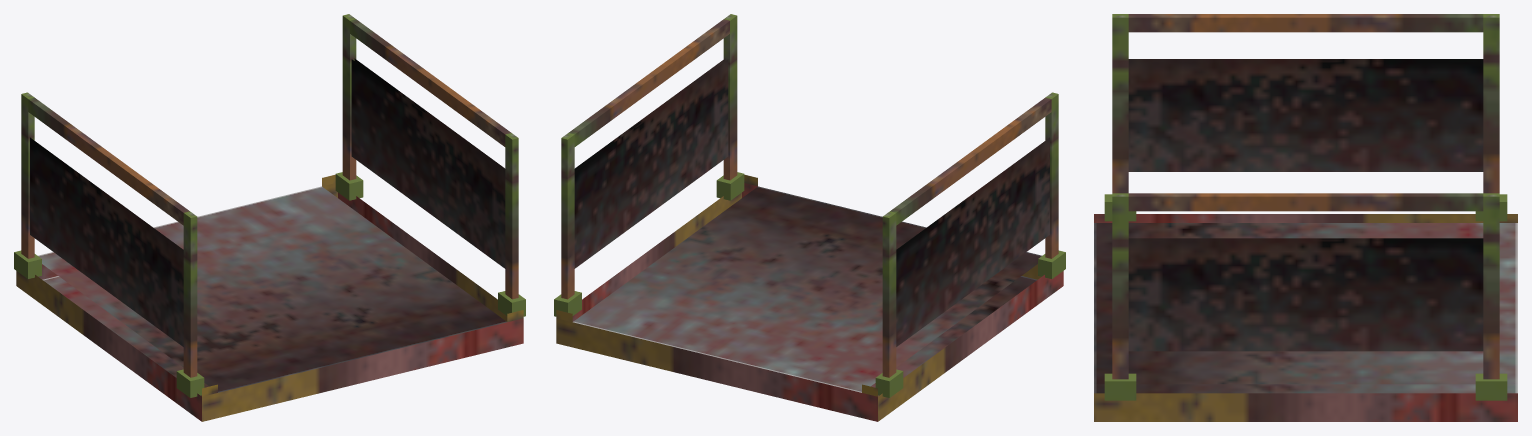
Rendered from SM_PLATAFORMA_01.fbx.
3 views of the same model, side by side, from view 1: azimuth 30°, elevation 25°; view 2: azimuth 150°, elevation 25°; view 3: azimuth 270°, elevation 25° (orthographic). The views are drawn at different scales.
Parts seen in each view (by area): view 1: SM_PLATAFORMA_01; view 2: SM_PLATAFORMA_01; view 3: SM_PLATAFORMA_01.
Part boxes in pixels (<box>): SM_PLATAFORMA_01: <box>14,14,525,421</box>; SM_PLATAFORMA_01: <box>554,14,1065,421</box>; SM_PLATAFORMA_01: <box>1094,14,1517,421</box>.
Bounding box in the file's own units: 2.09 × 1.18 × 2.
